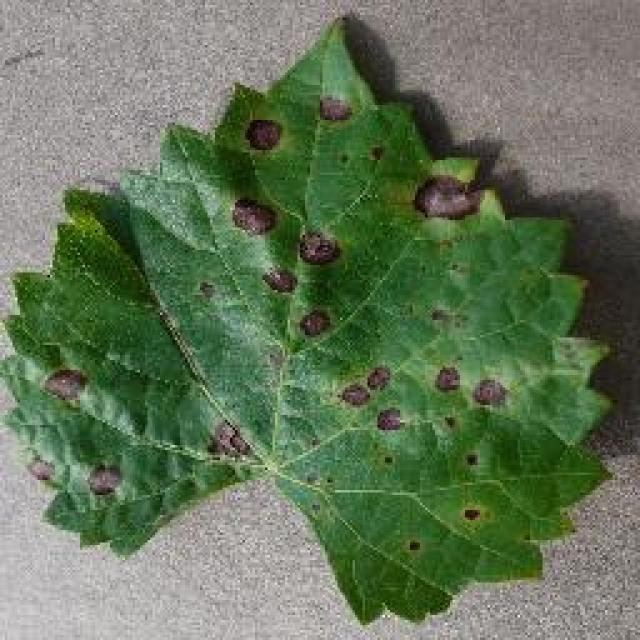Grape___Black_rot: (0, 15, 623, 632)
